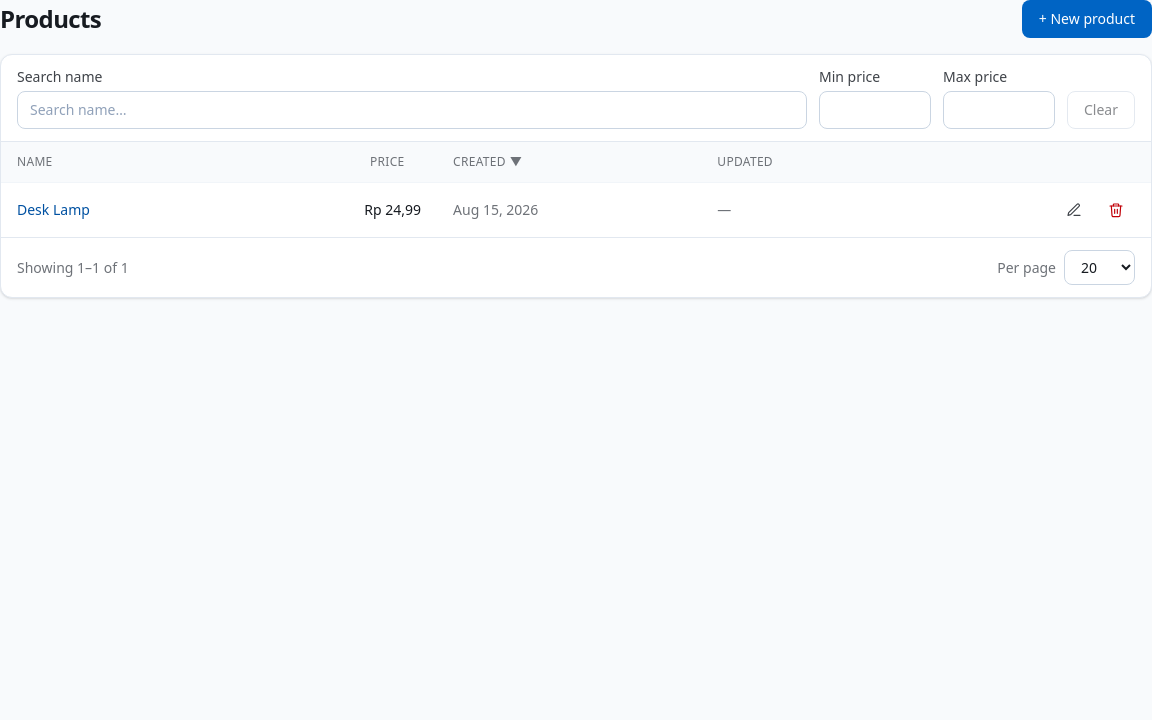
delete › confirms, deletes, and does not confirm on Enter
Step 1. Click the button named "Delete Desk Lamp" → (1116, 210), box [1097, 195, 1135, 225]
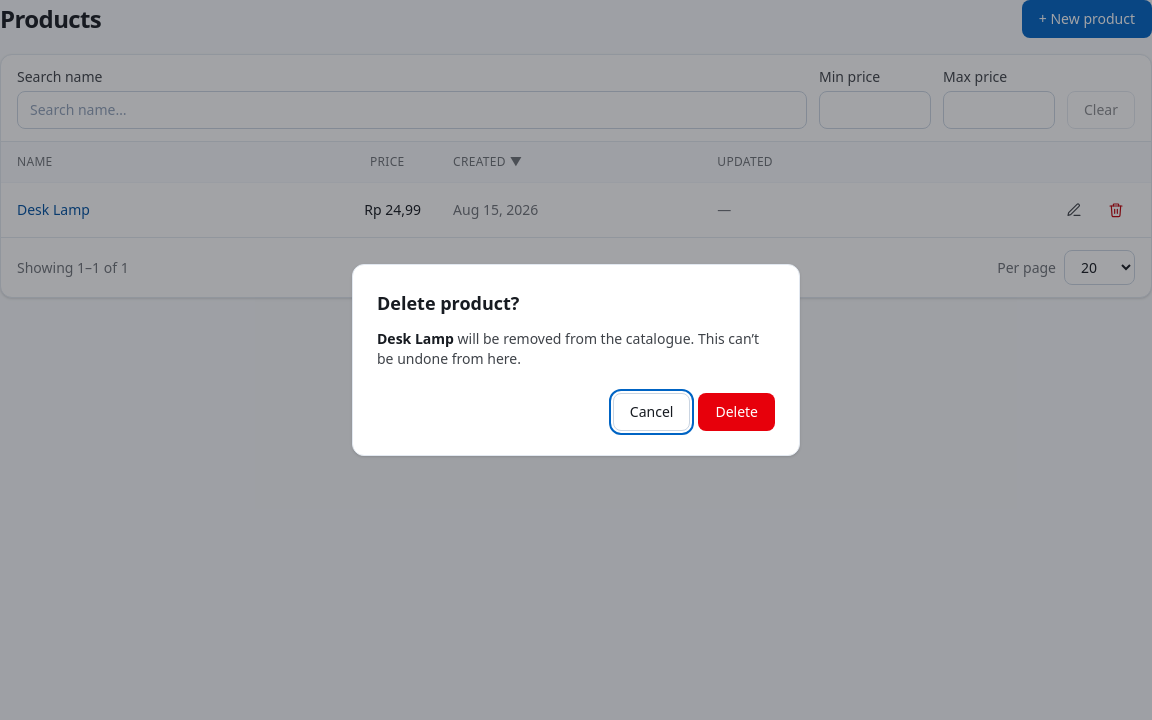
Expected: the dialog shows "will be removed from the catalogue", [377, 329, 759, 368]
Step 2. Press Enter
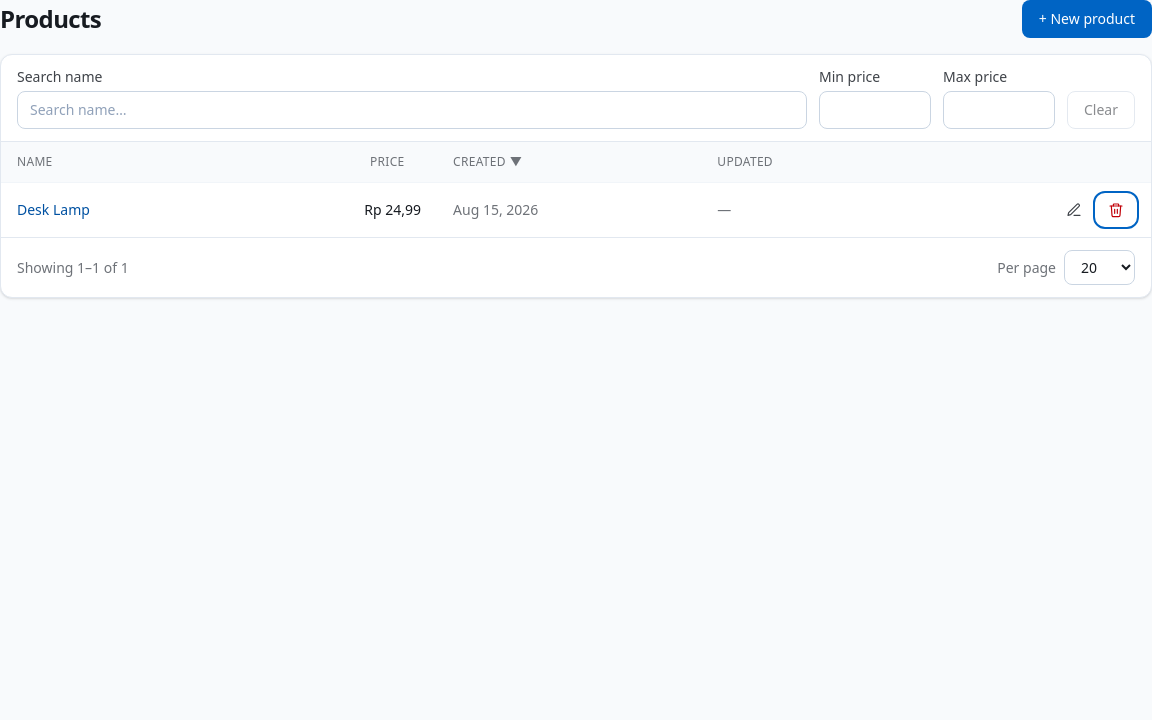
Step 3. Click the button named "Delete Desk Lamp" → (1116, 210), box [1097, 195, 1135, 225]
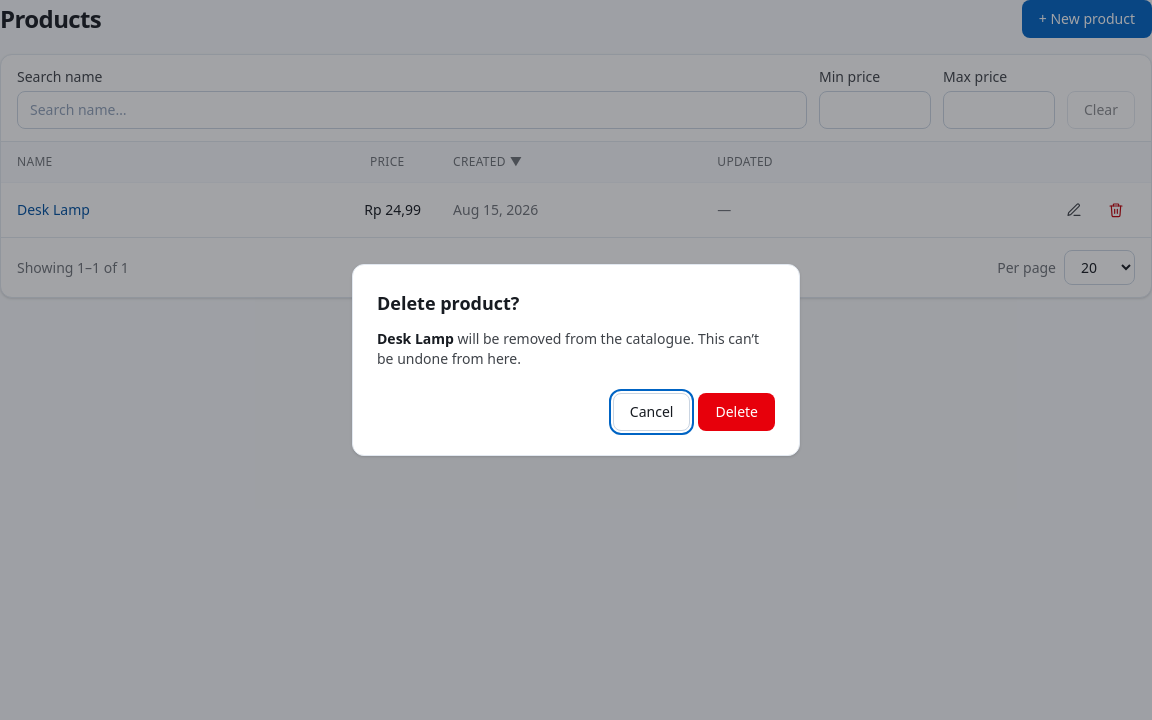
Step 4. Click the button "Delete" → (737, 412), box [698, 393, 775, 431]
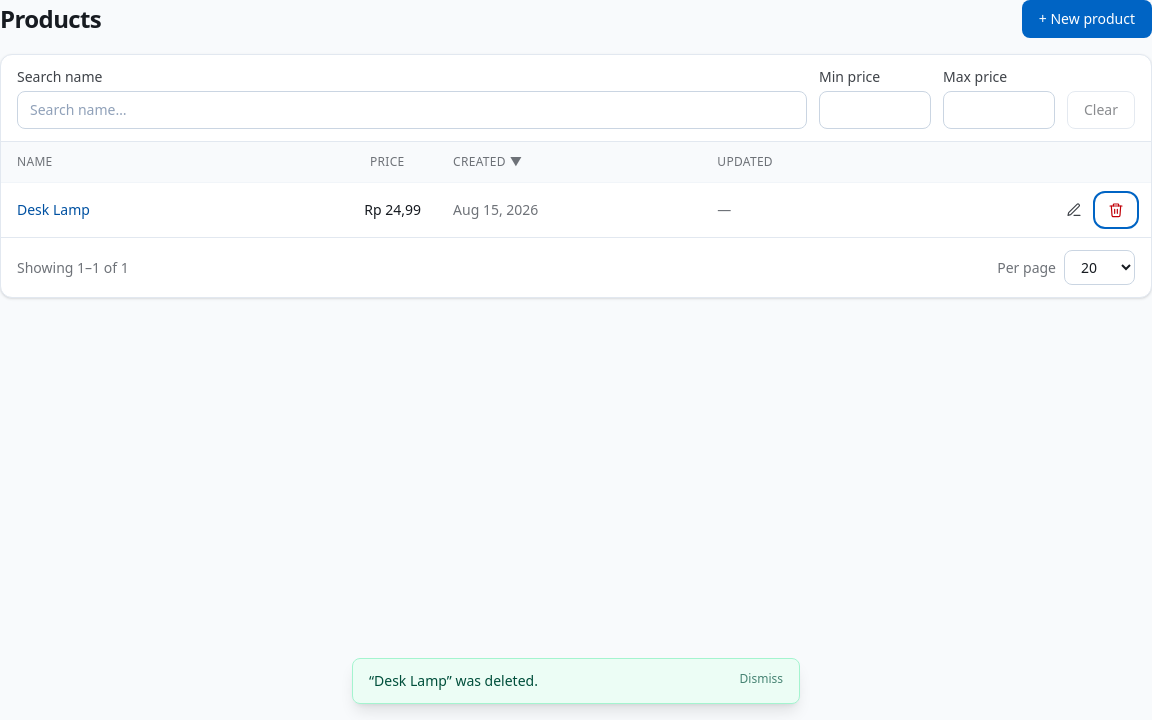
Expected: the text "“Desk Lamp” was deleted." is shown, [369, 671, 538, 691]
